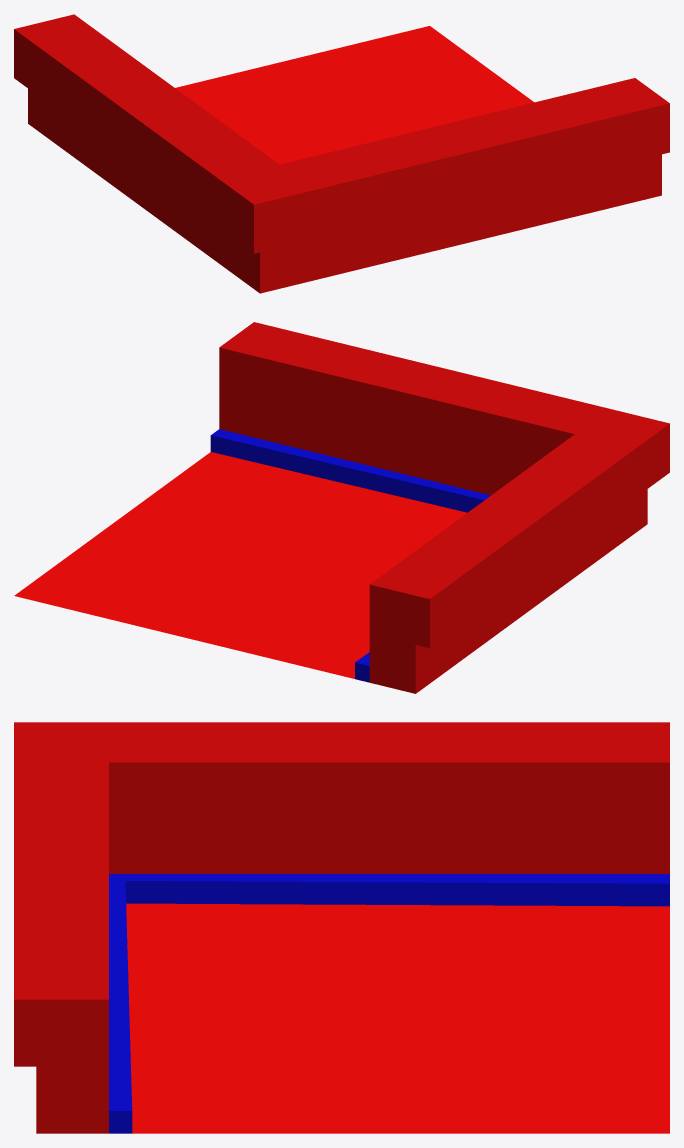
The model's file is Roof_Flat_Corner.FBX.
3 views of the same model, one above another, from view 1: azimuth 30°, elevation 25°; view 2: azimuth 150°, elevation 25°; view 3: azimuth 270°, elevation 25° (orthographic). The views are drawn at different scales.
Parts seen in each view (by area): view 1: Roof_Flat_Corner; view 2: Roof_Flat_Corner; view 3: Roof_Flat_Corner.
Boxes of the visible parts, x1,y1,x2,y2 form: Roof_Flat_Corner: [14, 14, 669, 293]; Roof_Flat_Corner: [14, 322, 669, 693]; Roof_Flat_Corner: [14, 722, 669, 1133].
Bounding box in the file's own units: 2.84 × 0.64 × 2.84.
